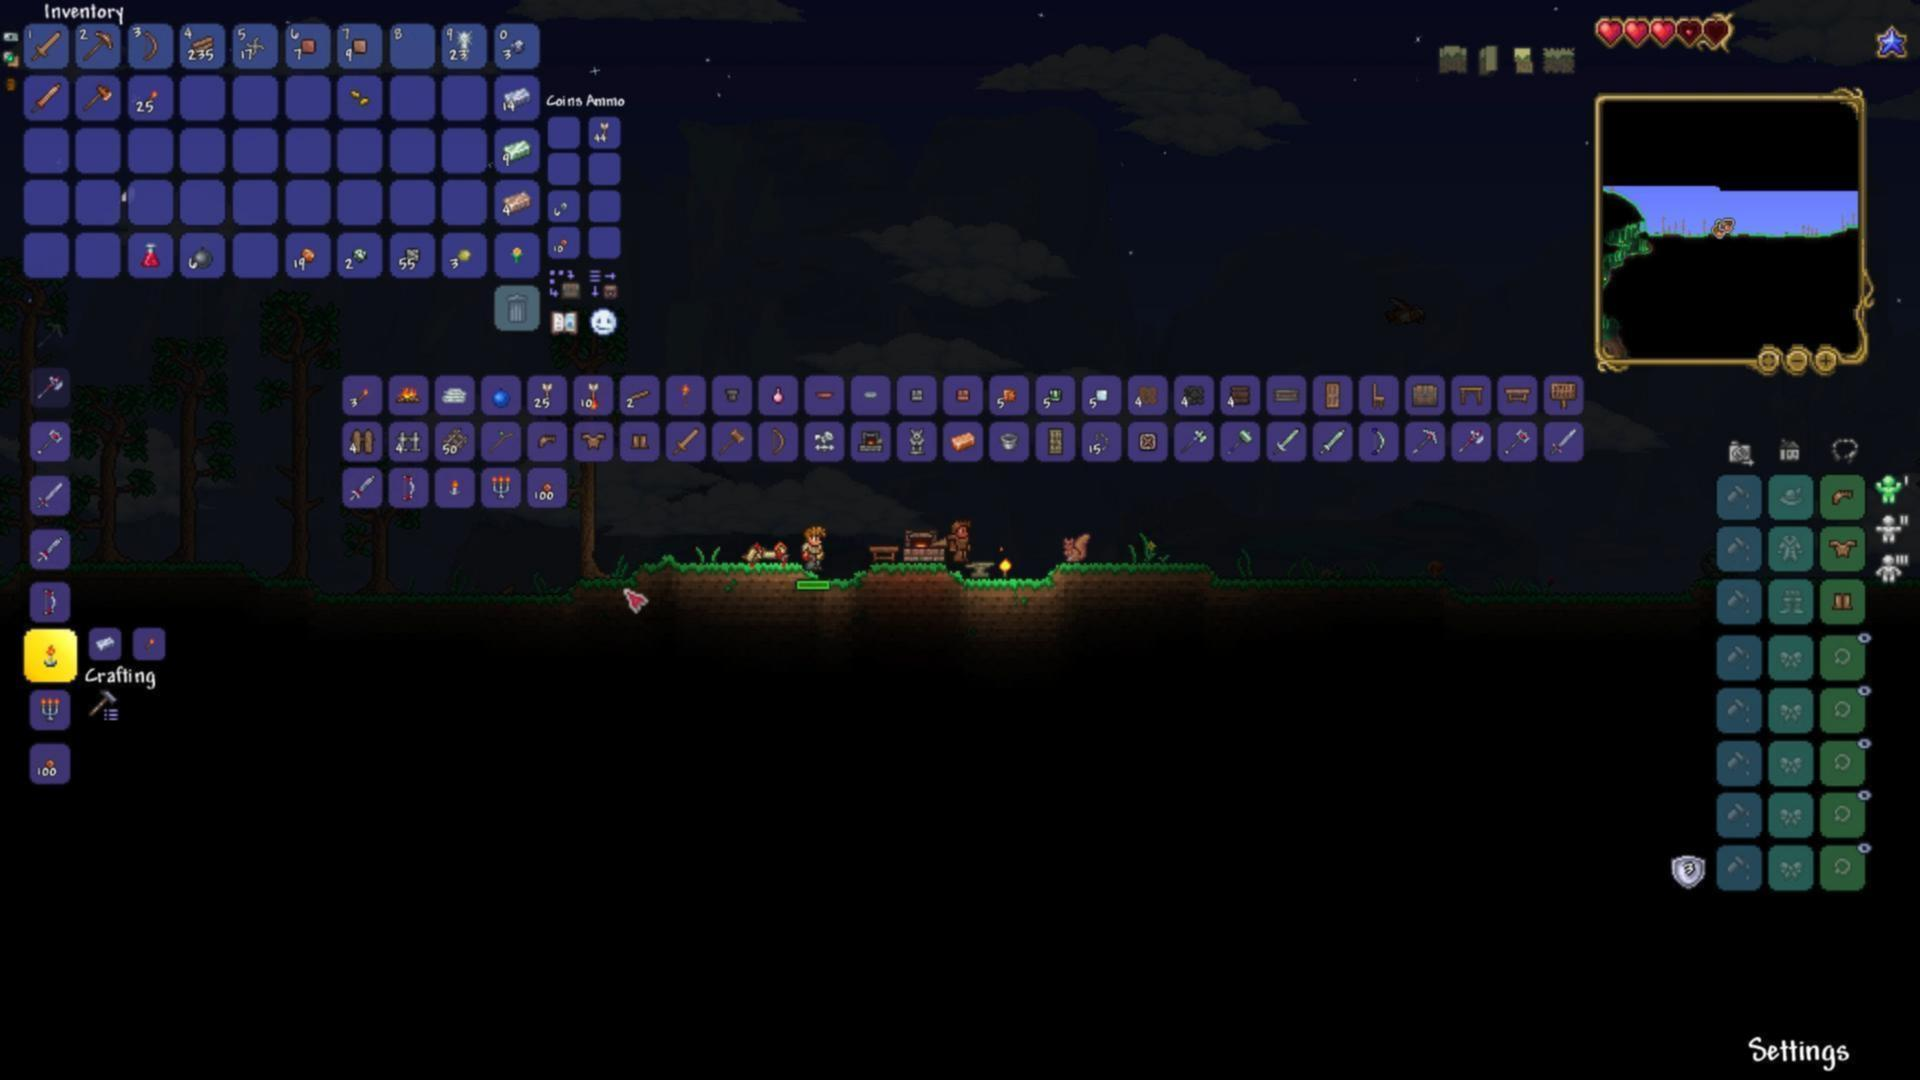anvil: (960, 556, 998, 578)
arrow: (585, 382, 603, 411), (541, 382, 556, 407), (597, 120, 613, 145)
axe: (80, 80, 113, 112), (32, 371, 63, 404), (1179, 429, 1211, 454), (1457, 429, 1487, 454)
bow: (40, 585, 61, 620), (398, 471, 418, 502), (142, 29, 161, 62), (770, 422, 789, 454), (1369, 426, 1386, 458)
breastplate: (1826, 537, 1858, 558)
furnace: (902, 526, 947, 563)
gel: (456, 247, 475, 265)
pickaxe: (80, 32, 113, 66), (1411, 425, 1441, 456)
rope: (455, 28, 475, 63)
shuriken: (245, 36, 264, 57)
sword: (29, 82, 65, 117), (28, 30, 65, 65), (348, 471, 378, 505), (1549, 423, 1578, 455), (34, 534, 66, 563), (1270, 429, 1299, 459), (1317, 427, 1346, 458), (673, 429, 699, 458), (37, 481, 63, 509)
workbench: (868, 539, 901, 564), (1505, 382, 1534, 406)
